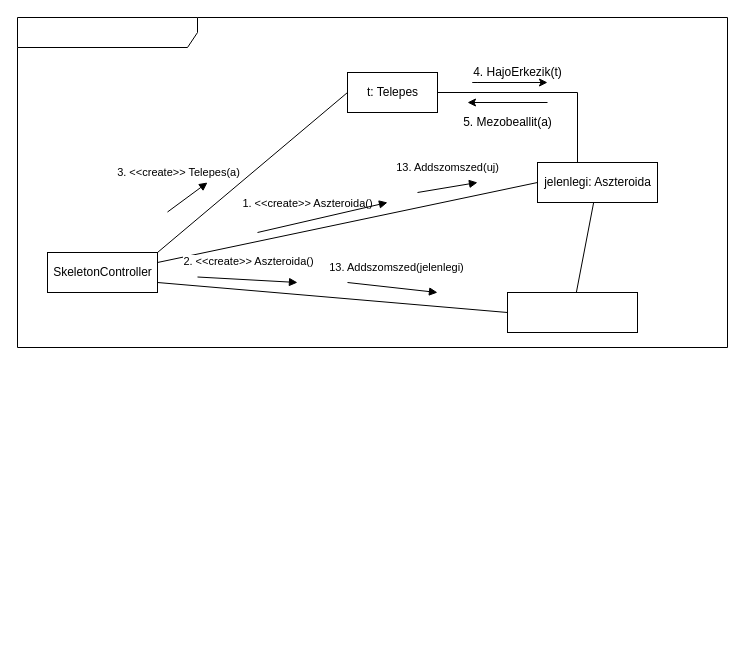
This 745x658 diagram has some shape labels left out. Each missing label, with the box of its shape:
Telepes mozog szomszédos aszteroidára: (16, 16, 728, 348)
uj: Aszteroida: (506, 292, 638, 332)
